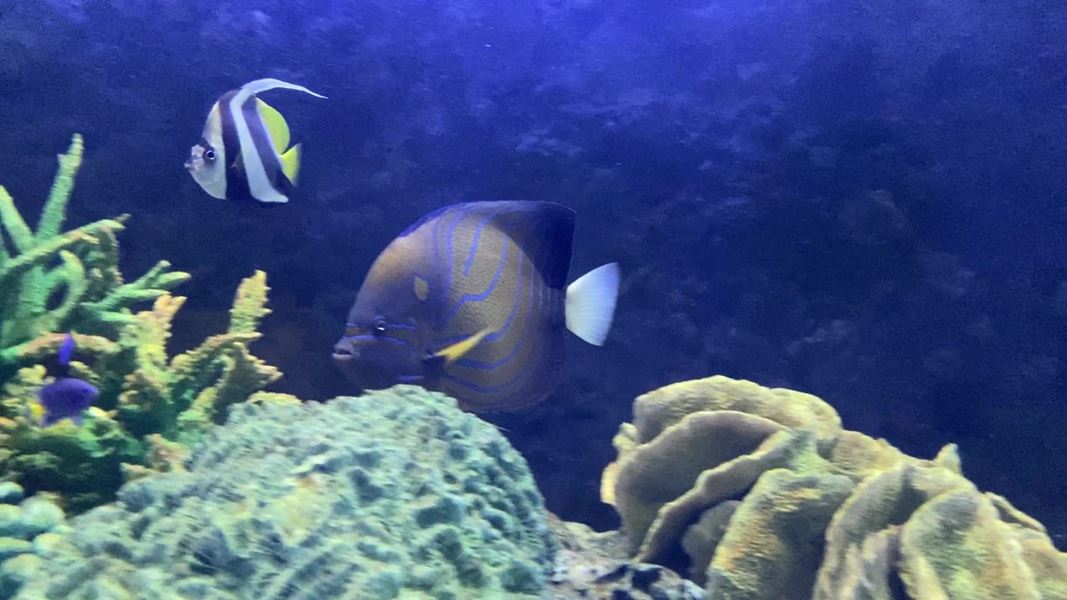Blue ring angelfish: (313, 186, 630, 429)
